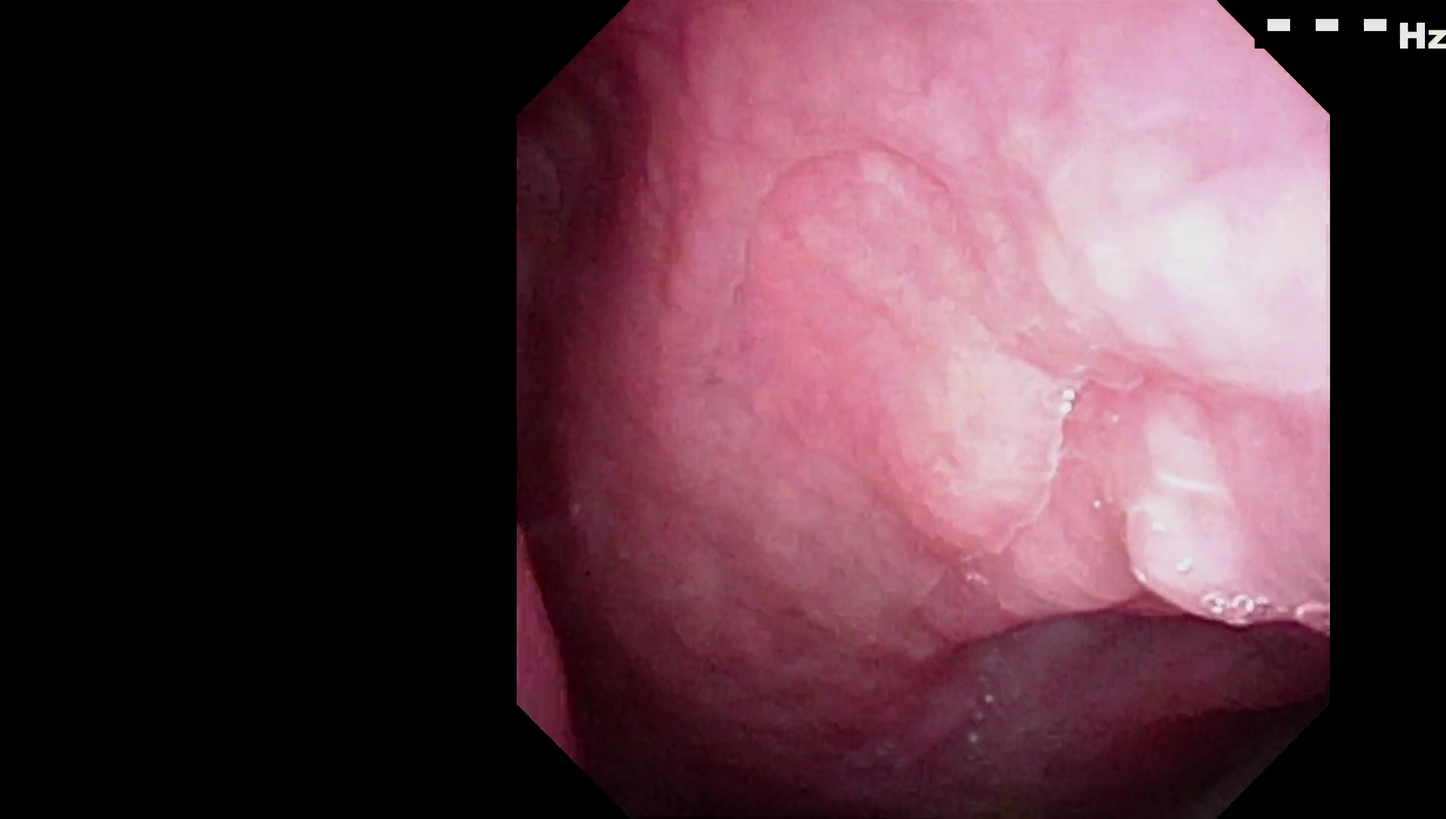close_wall: (789, 102, 1314, 634)
next: (529, 538, 749, 796), (1123, 650, 1318, 791)
